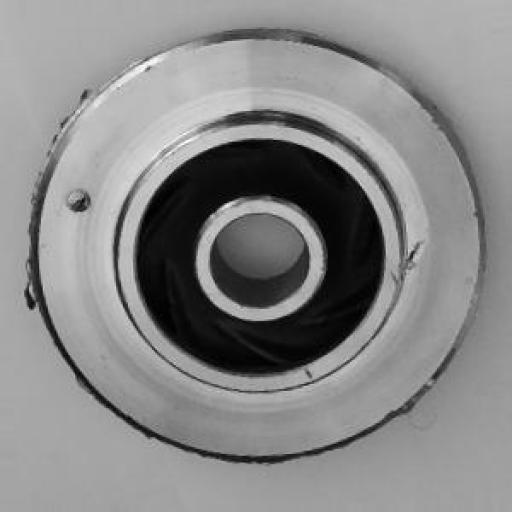defect: (21, 26, 455, 435)
